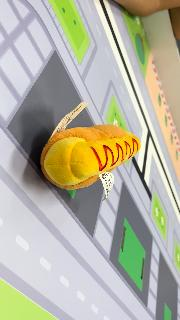hotdog: (40, 124, 142, 190)
